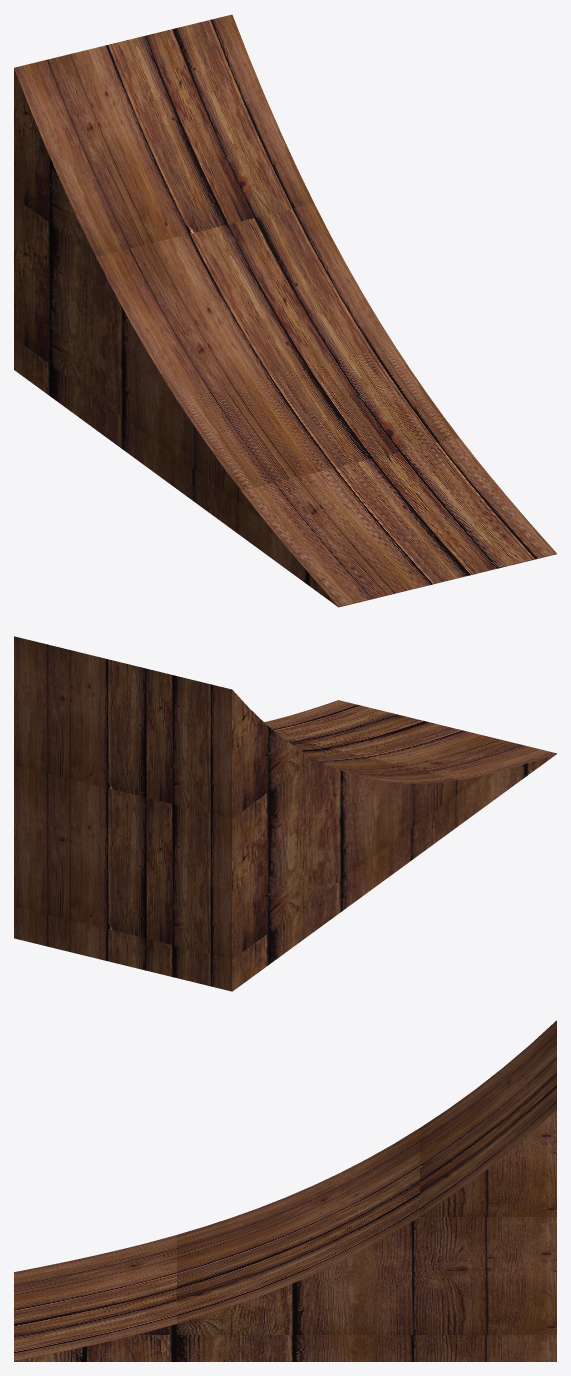
File: Smaller_platform.fbx
3 views of the same model, one above another, from view 1: azimuth 30°, elevation 25°; view 2: azimuth 150°, elevation 25°; view 3: azimuth 270°, elevation 25° (orthographic). The views are drawn at different scales.
Parts seen in each view (by area): view 1: Box _LOD0; view 2: Box _LOD0; view 3: Box _LOD0.
Boxes of the visible parts, left/top/right/bottom form: Box _LOD0: left=14, top=14, right=556, bottom=607; Box _LOD0: left=14, top=636, right=556, bottom=991; Box _LOD0: left=14, top=1020, right=556, bottom=1361.
Size of what is drawn, in the model's own units: 70 by 92.54 by 180.
Materials: 1 (1 with a texture image).
